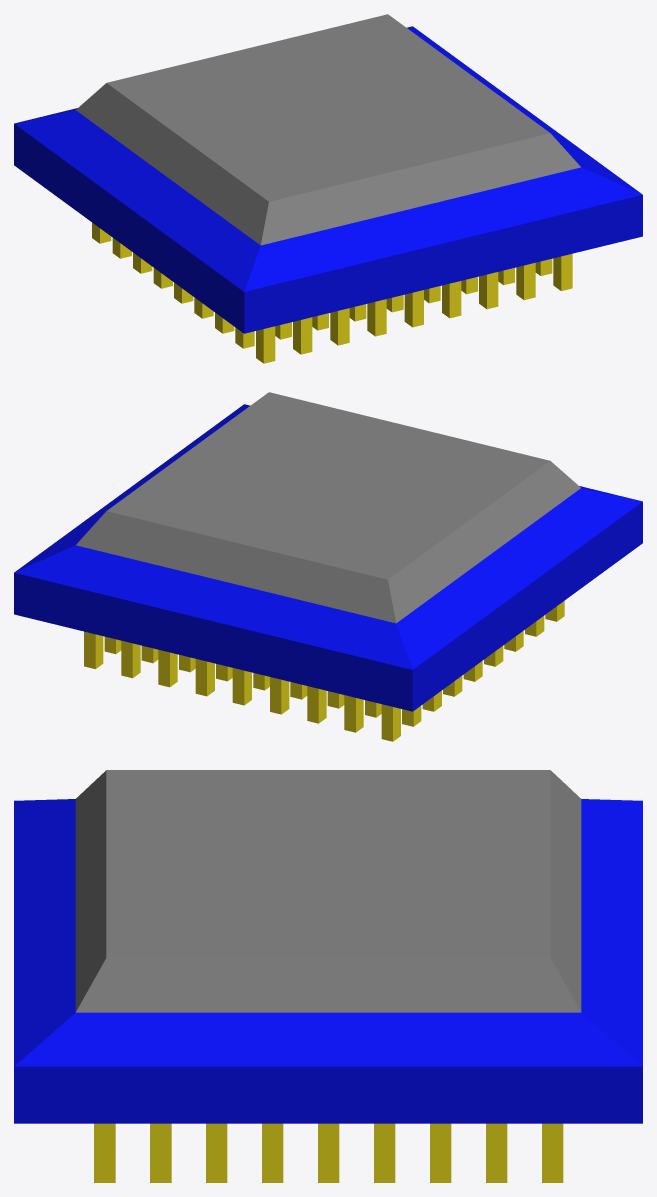
The model's file is newCPU.fbx.
The picture shows the model from 3 angles, top to bottom: view 1: azimuth 30°, elevation 25°; view 2: azimuth 150°, elevation 25°; view 3: azimuth 270°, elevation 25°; orthographic projection. The views are drawn at different scales.
Visible parts, largest first — view 1: Box001, Box010; view 2: Box001, Box010; view 3: Box001, Box010.
Part boxes in pixels (box(x1,y1,x2,y2)): Box001: box(14, 14, 642, 333); Box010: box(92, 222, 572, 363); Box001: box(14, 392, 642, 711); Box010: box(84, 601, 564, 741); Box001: box(14, 770, 642, 1123); Box010: box(94, 1123, 563, 1182).
Bounding box in the file's own units: 10 × 3.74 × 10.
